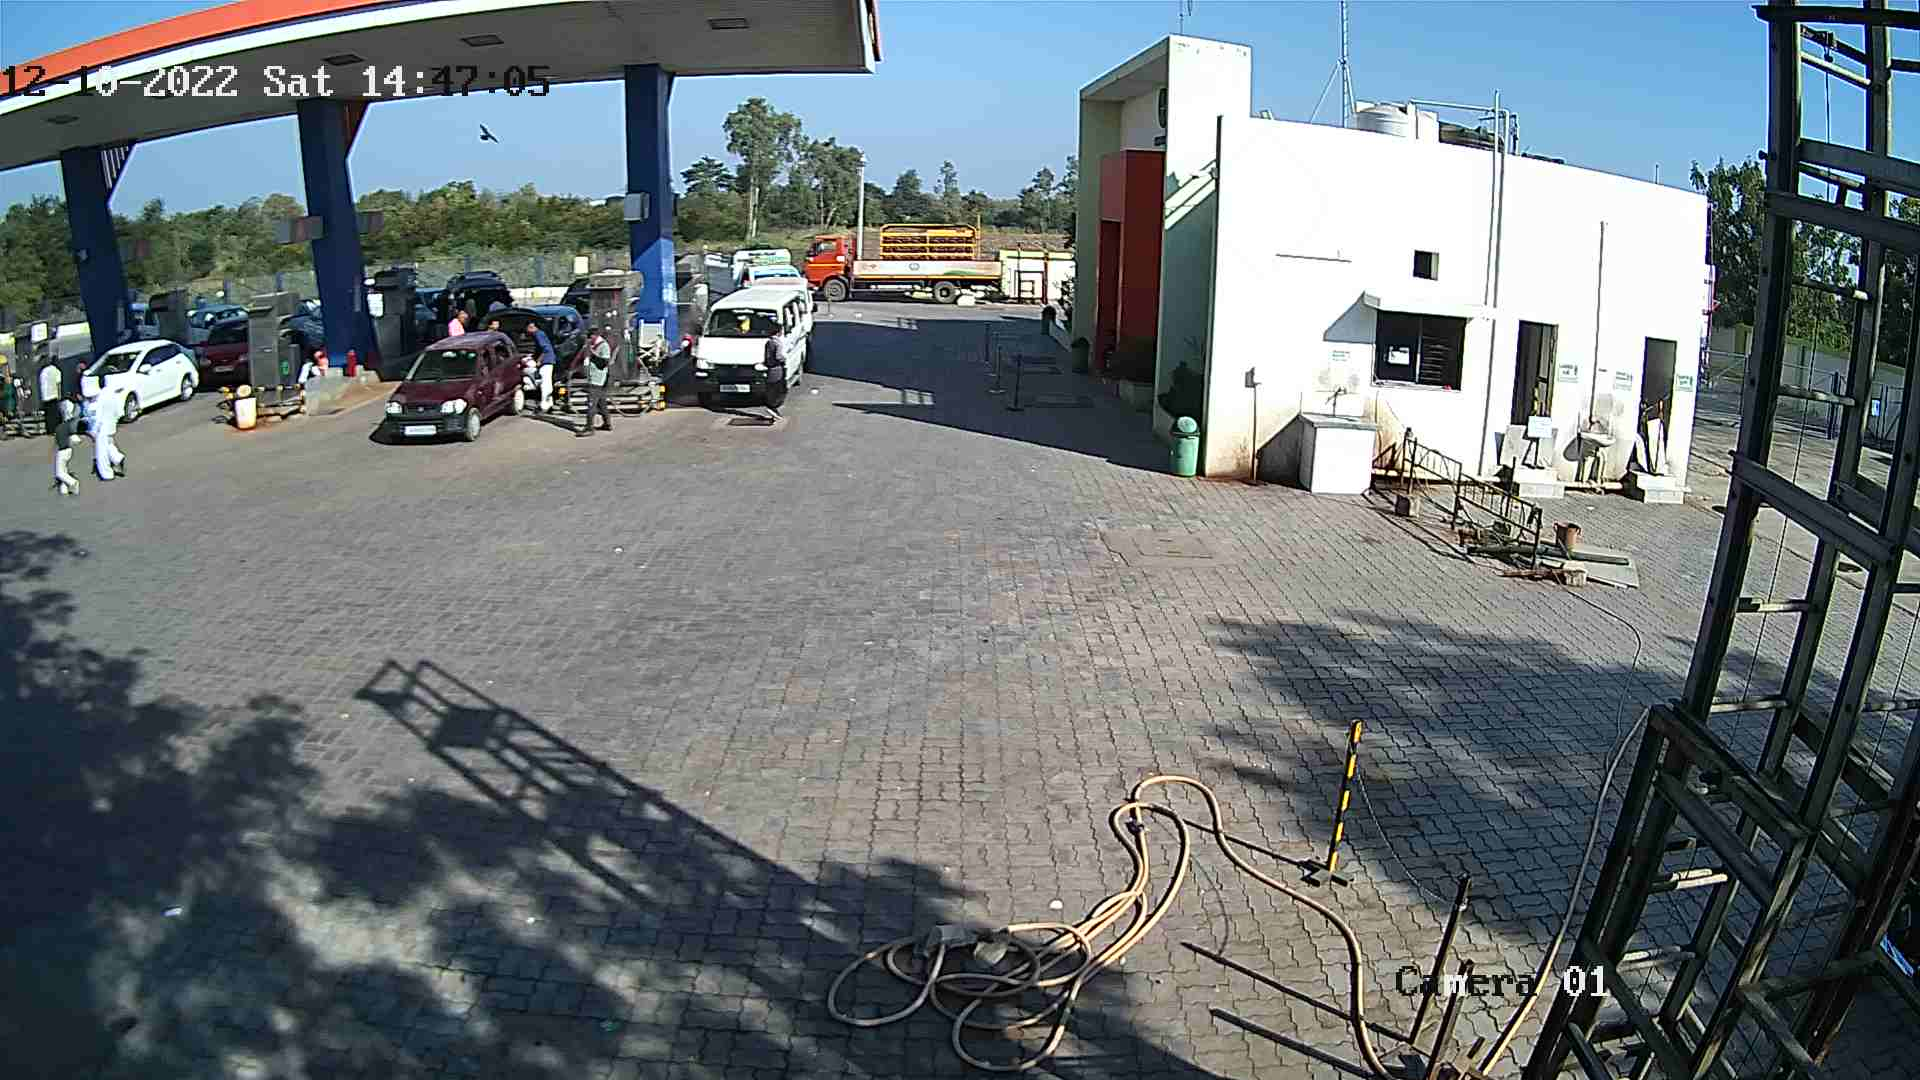Auto: (0, 335, 21, 444)
Car: (676, 266, 823, 417), (371, 320, 534, 455), (59, 323, 206, 438), (464, 293, 592, 405), (178, 302, 258, 401), (433, 262, 520, 345), (264, 290, 330, 375), (549, 266, 611, 353), (181, 291, 251, 357), (406, 274, 460, 353), (115, 287, 170, 351), (353, 266, 392, 326)
HMV: (793, 210, 1021, 307), (680, 233, 819, 316)
